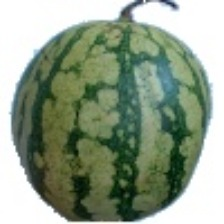watermelon: (22, 32, 181, 220)
